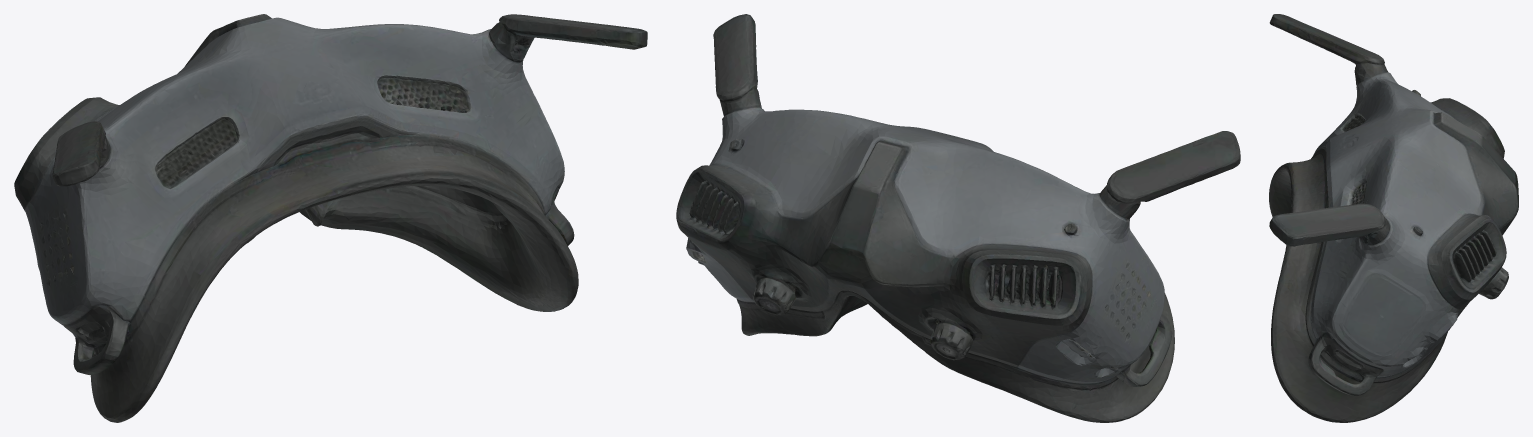
File: avata.glb
3 views of the same model, side by side, from view 1: azimuth 30°, elevation 25°; view 2: azimuth 150°, elevation 25°; view 3: azimuth 270°, elevation 25° (orthographic). The views are drawn at different scales.
Parts seen in each view (by area): view 1: avata; view 2: avata; view 3: avata.
Boxes of the visible parts, x1,y1,x2,y2 form: avata: [14, 14, 647, 422]; avata: [676, 14, 1240, 422]; avata: [1269, 14, 1518, 422].
Size of the model in its own units: 0.2374 by 0.1162 by 0.1145.
Materials: 1 (1 with a texture image).
